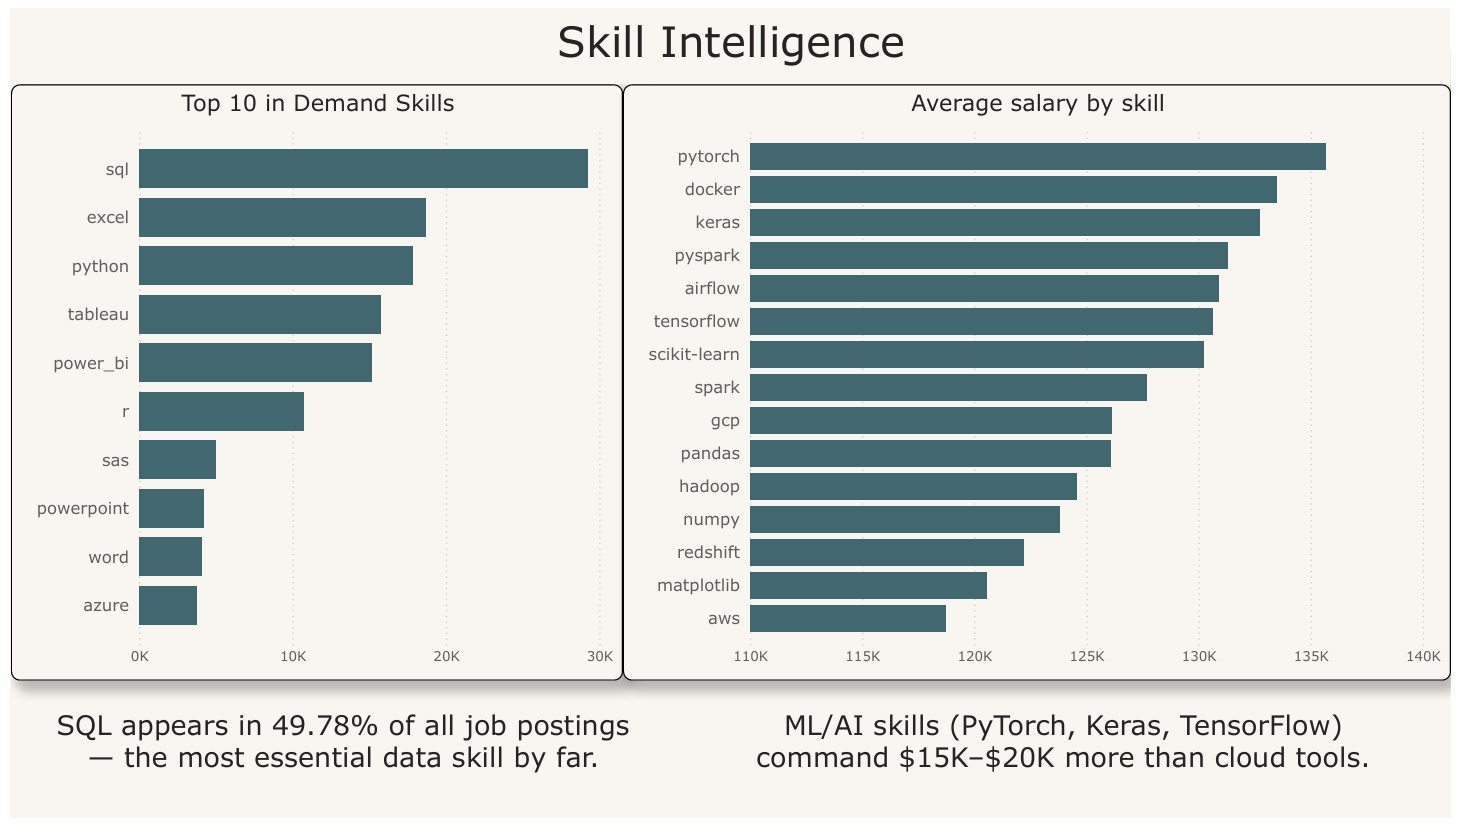

Layout of this report page (visuals, bound fields, positions):
{"tool":"powerbi","page":{"name":"Skill Intelligence","canvas":[1280,720],"ordinal":1},"visuals":[{"type":"clusteredBarChart","title":"Top 10 in Demand Skills","fields":{"Category":["job_skills_exploded.skill"],"Y":["job_postings.Skill Demand"]},"box":[0,67.1,544.3,530],"z":0},{"type":"clusteredBarChart","title":"Average salary by skill","fields":{"Y":["Avg(vw_top15_salary_skills (2).avg_salary)"],"Category":["vw_top15_salary_skills (2).skill"]},"box":[544.3,67.1,735.7,530],"z":1},{"type":"textbox","box":[0,615.7,591.4,104.3],"z":2},{"type":"textbox","box":[591.4,615.7,688.6,104.3],"z":3},{"type":"textbox","box":[0,0,1280,67.1],"z":4}]}

Visuals, with their boxes in screenshot pixels (x1, y1, x2, y2), scaled from the page's 1280x720 canvas onto the 1459x832 screenshot:
"Top 10 in Demand Skills" clusteredBarChart: (x1=0, y1=78, x2=620, y2=690)
"Average salary by skill" clusteredBarChart: (x1=620, y1=78, x2=1458, y2=690)
textbox: (x1=0, y1=711, x2=674, y2=831)
textbox: (x1=674, y1=711, x2=1458, y2=831)
textbox: (x1=0, y1=0, x2=1458, y2=78)
